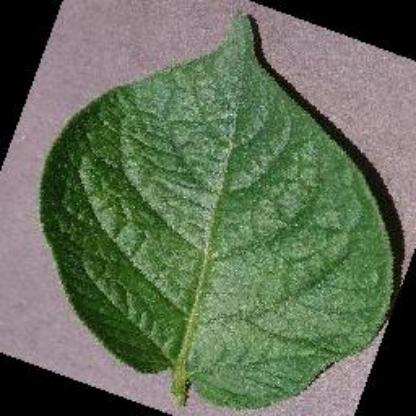Healthy-plant: (31, 6, 394, 412)
